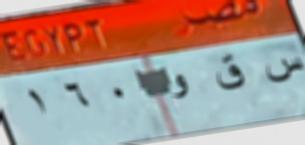0: (110, 82, 129, 107)
1: (26, 83, 49, 120)
6: (62, 80, 92, 113)
qaaf: (213, 51, 248, 98)
seen: (260, 54, 305, 87)
waw: (165, 71, 192, 105)
